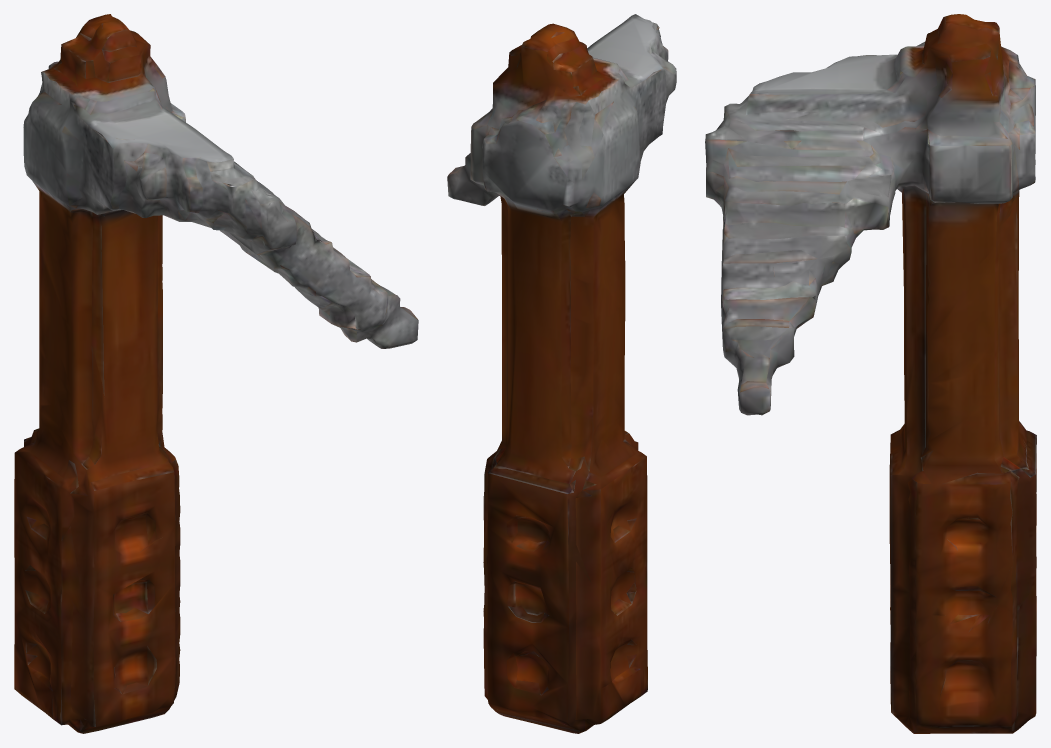
File: scythe.glb
3 views of the same model, side by side, from view 1: azimuth 30°, elevation 25°; view 2: azimuth 150°, elevation 25°; view 3: azimuth 270°, elevation 25° (orthographic). The views are drawn at different scales.
Parts seen in each view (by area): view 1: scythe; view 2: scythe; view 3: scythe.
Boxes of the visible parts, bbox=[...] form: scythe: bbox=[14, 14, 418, 733]; scythe: bbox=[447, 14, 676, 733]; scythe: bbox=[705, 14, 1036, 733].
Size of the model in its own units: 0.1408 by 0.3332 by 0.1427.
Materials: 1 (1 with a texture image).
